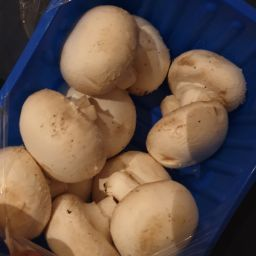Mushrooms: (54, 5, 172, 115), (8, 85, 124, 187), (100, 150, 203, 256), (143, 80, 239, 165), (169, 34, 254, 129), (1, 139, 63, 256), (51, 183, 134, 256)
